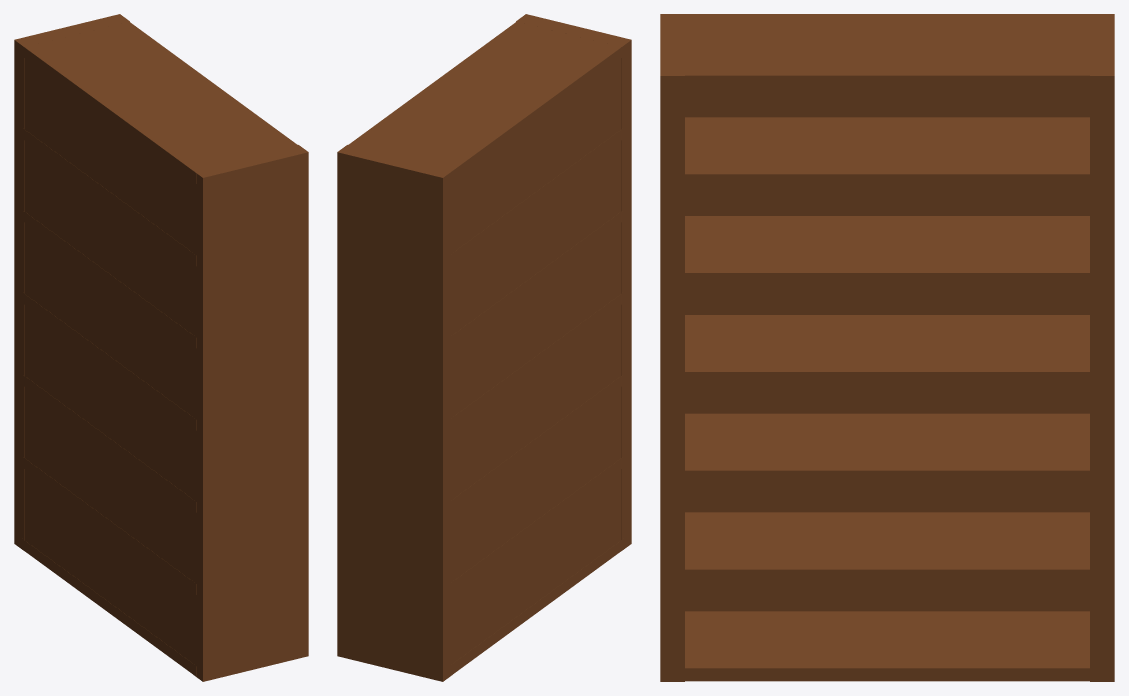
File: шкаф1.fbx
3 views of the same model, side by side, from view 1: azimuth 30°, elevation 25°; view 2: azimuth 150°, elevation 25°; view 3: azimuth 270°, elevation 25° (orthographic). The views are drawn at different scales.
Parts seen in each view (by area): view 1: Cube.003, Cube, Cube.002, Cube.001; view 2: Cube.003, Cube.001, Cube.002, Cube; view 3: Cube.002, Cube.003, Cube.001, Cube.
Boxes of the visible parts, x1,y1,x2,y2 form: Cube.003: (24,58,192,663); Cube: (193,145,308,681); Cube.002: (21,21,297,676); Cube.001: (14,14,129,550); Cube.003: (453,58,621,663); Cube.001: (337,145,452,681); Cube.002: (348,21,625,676); Cube: (516,14,631,550); Cube.002: (685,14,1089,681); Cube.003: (685,88,1089,611); Cube.001: (1090,14,1114,681); Cube: (660,14,684,681).
Size of the model in its own units: 83.26 by 379 by 258.
